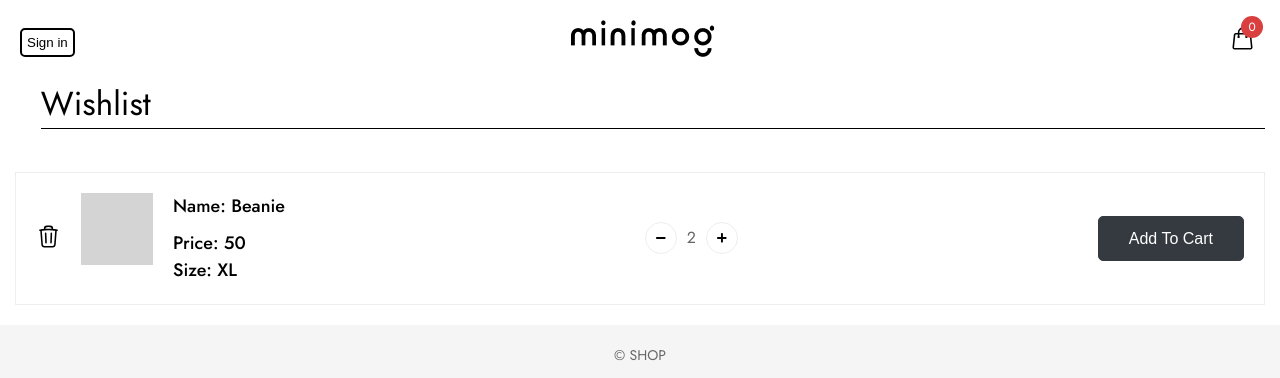
it: wishListTest › plus count test
Expected: the heading "Wishlist" is shown, [41,0,1265,129]
Expected: the element with test id "item-count" reads "2", [687,226,696,249]
Click the button with test id "button-plus" at (722, 238), box [706,222,738,254]
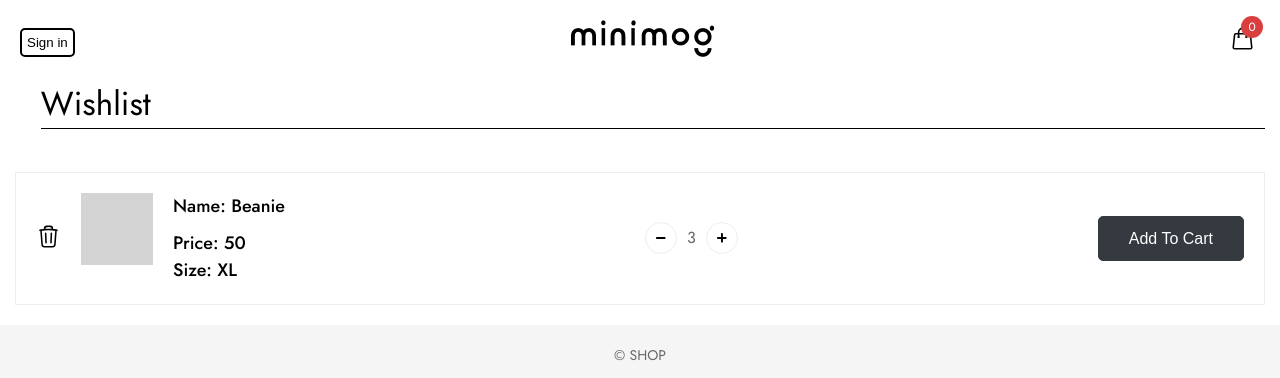
Now the element with test id "item-count" reads "3", box [687,226,696,249]
